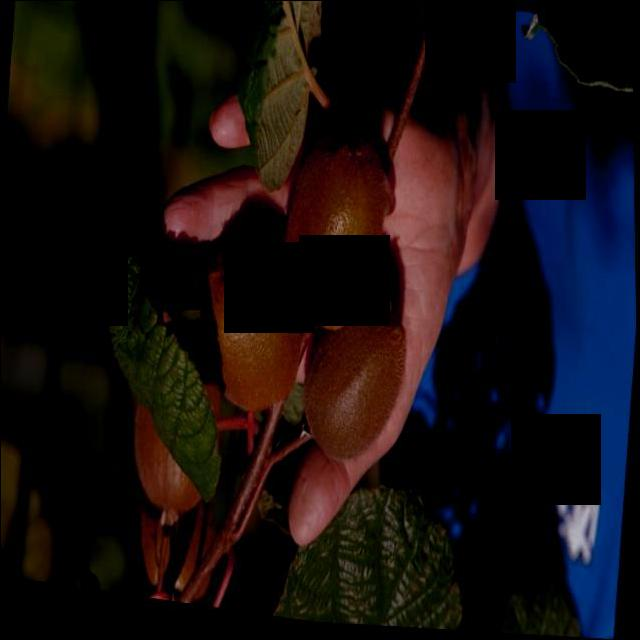kiwi: (278, 121, 399, 343), (296, 280, 418, 475), (194, 232, 311, 425), (124, 334, 235, 536)
